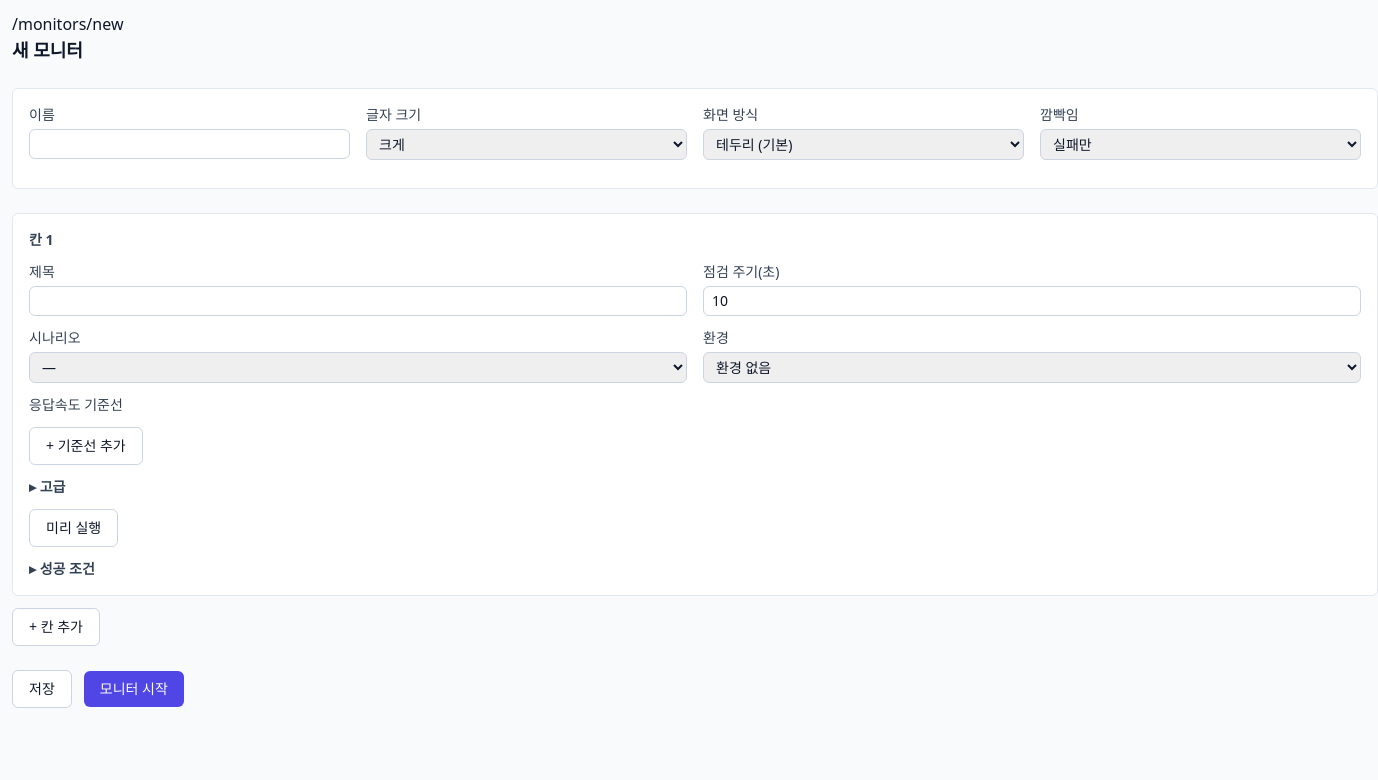
Scenario: MonitorEditPage › scenario_required_blocks_save
Type "운영실" into the field labelled "이름".
click(190, 144); type("운영실")  # box [29, 129, 350, 159]
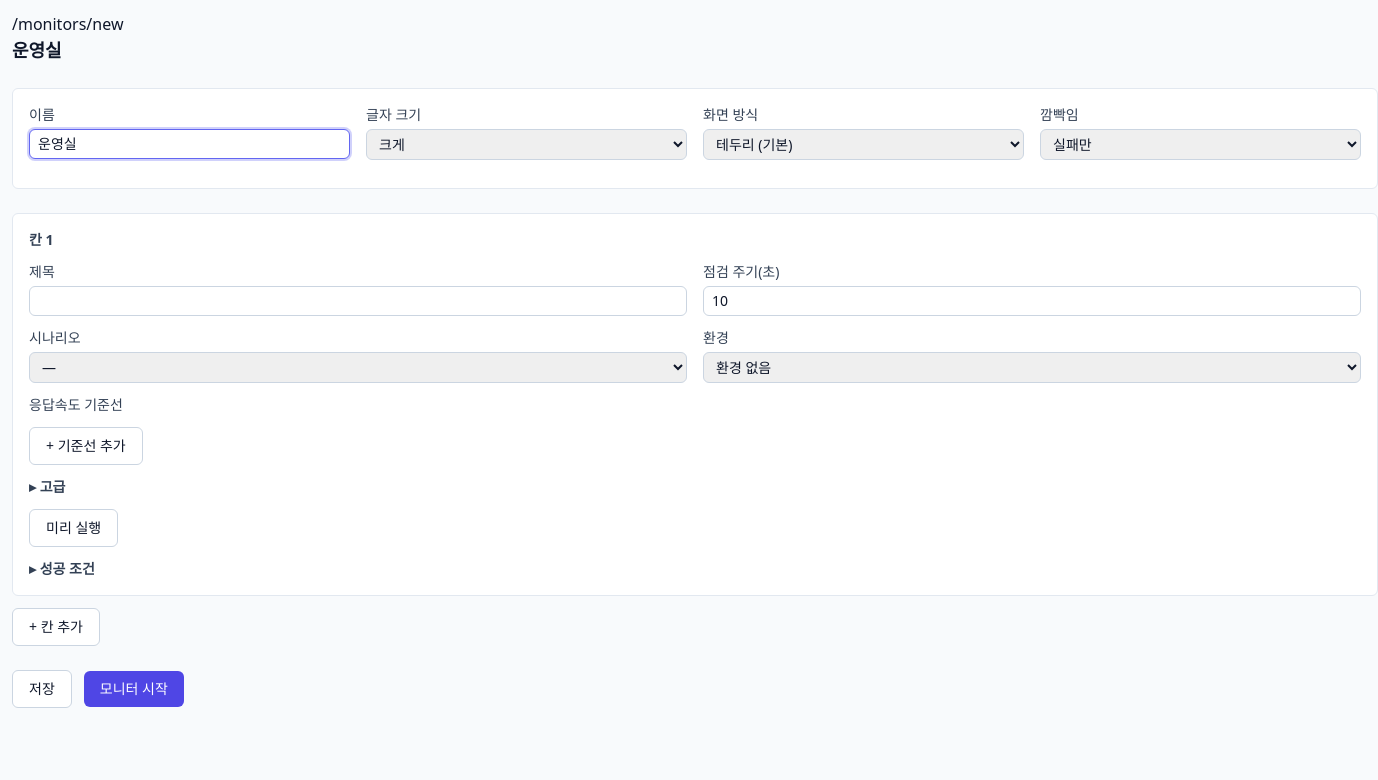
Click the button "저장".
click(42, 689)  # box [12, 670, 72, 708]
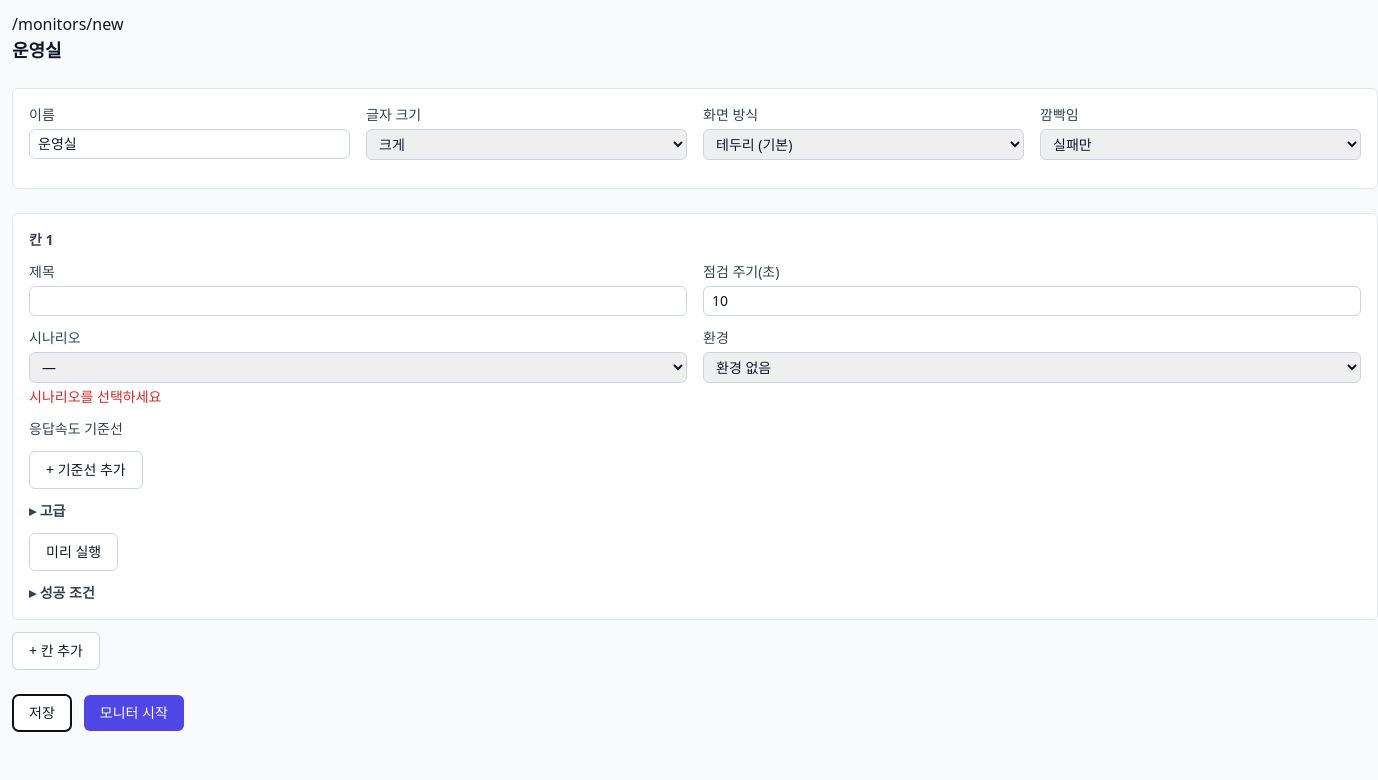
Expected: the text "시나리오를 선택하세요" is shown, [29, 387, 162, 406]
